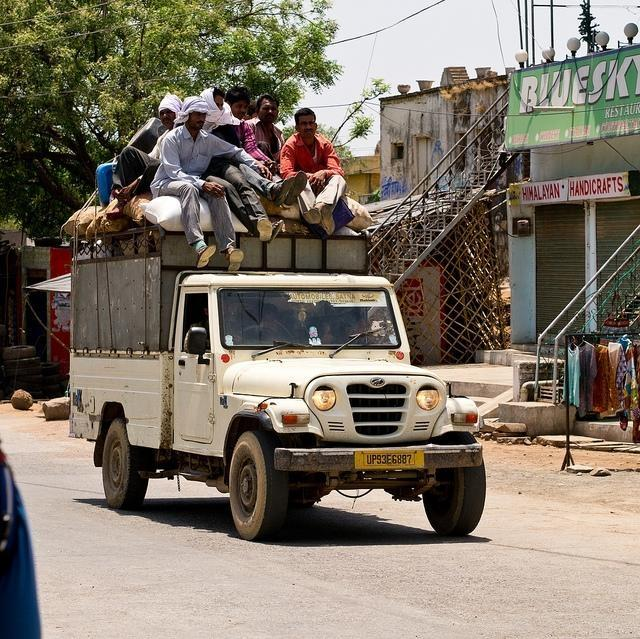truck: (58, 190, 488, 542)
